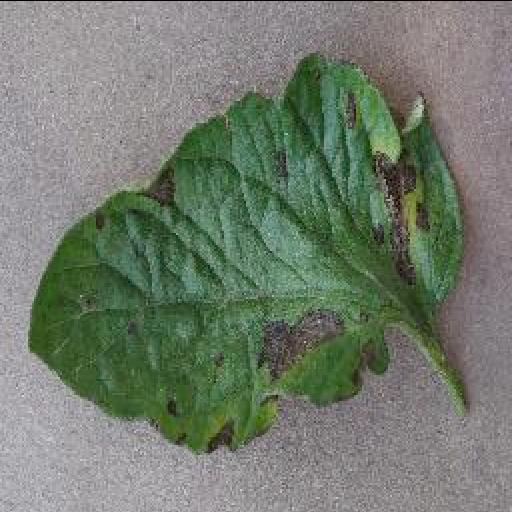disease_tomato: (27, 50, 469, 450)
